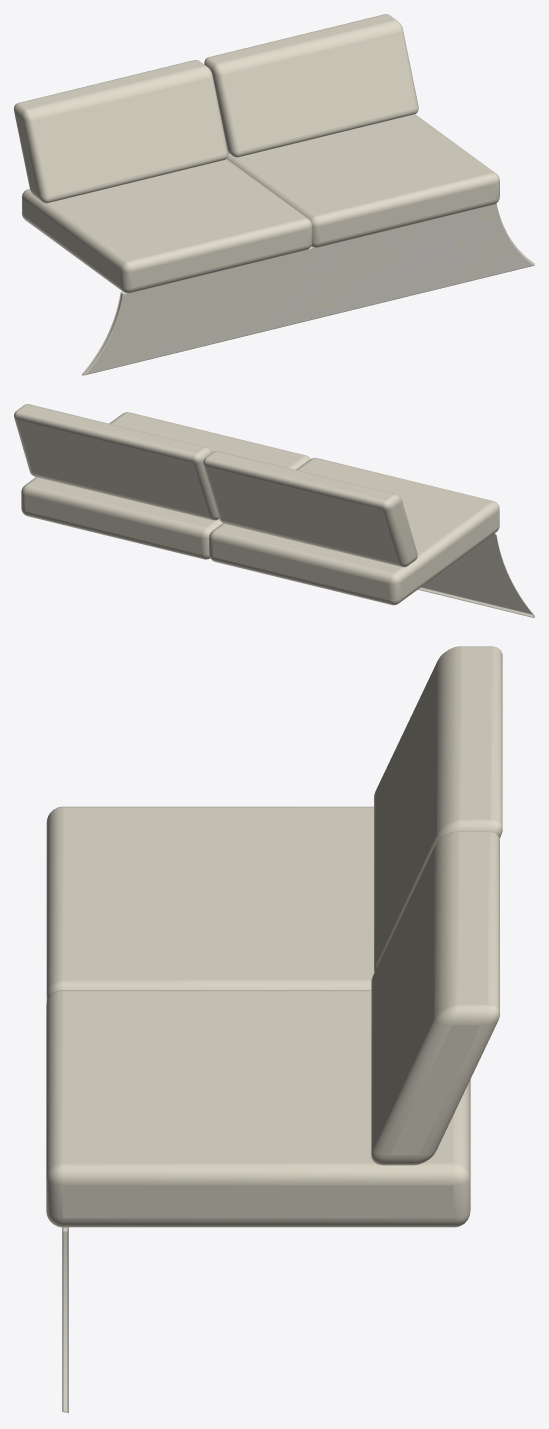
Rendered from sofa_cushions.dae.
3 views of the same model, one above another, from view 1: azimuth 30°, elevation 25°; view 2: azimuth 150°, elevation 25°; view 3: azimuth 270°, elevation 25° (orthographic). The views are drawn at different scales.
Parts seen in each view (by area): view 1: group_0, group_4, group_6, group_3, group_7; view 2: group_4, group_6, group_7, group_3, group_0; view 3: group_3, group_4, group_7, group_6, group_0.
Boxes of the visible parts, x1,y1,x2,y2 form: group_0: (82, 203, 534, 375); group_4: (22, 159, 312, 293); group_6: (14, 60, 228, 203); group_3: (226, 114, 499, 247); group_7: (204, 14, 418, 157); group_4: (209, 457, 499, 605); group_6: (203, 451, 417, 567); group_7: (14, 404, 218, 520); group_3: (21, 412, 310, 559); group_0: (418, 533, 534, 617); group_3: (46, 990, 470, 1227); group_4: (46, 806, 374, 1002); group_7: (371, 831, 499, 1165); group_6: (374, 646, 502, 972); group_0: (62, 1227, 68, 1413).
Size of the model in its own units: 1.91 by 0.8331 by 0.7428.
